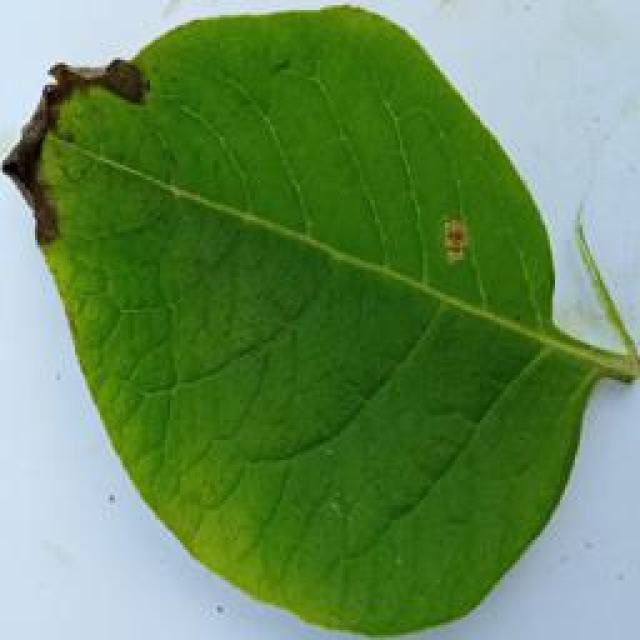Potato_Late_Blight: (3, 8, 623, 633)
